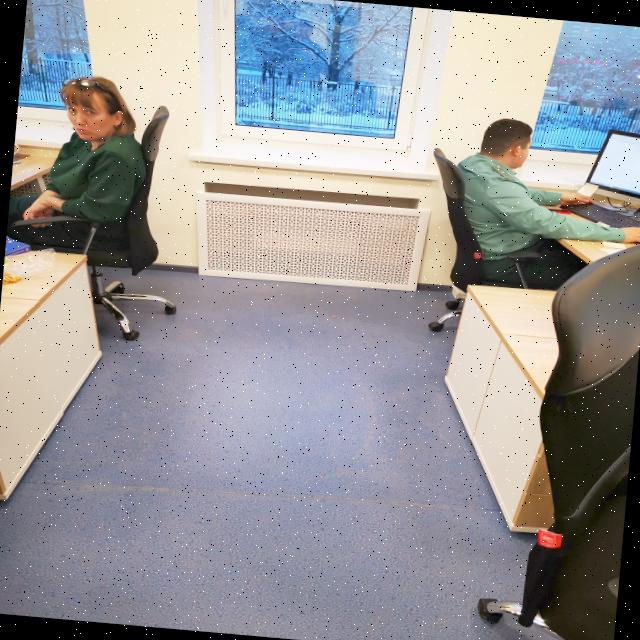NoHelmet: (55, 74, 135, 147), (477, 115, 538, 172)
